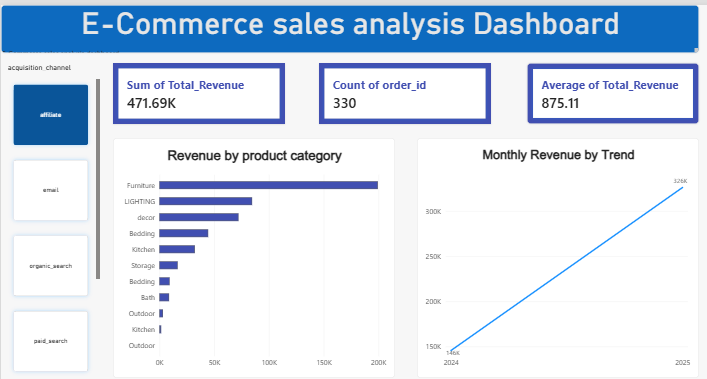

Layout of this report page (visuals, bound fields, positions):
{"tool":"powerbi","page":{"name":"Page 1","canvas":[1920,1080],"ordinal":0},"visuals":[{"type":"advancedSlicerVisual","fields":{"Values":["Sheet1.acquisition_channel"]},"box":[14,116,184,630],"z":0},{"type":"cardVisual","fields":{"Data":["Sum(Sheet1.Total_Revenue)"]},"box":[224,116,344,122],"z":1000},{"type":"clusteredBarChart","title":"Revenue by product category","fields":{"Category":["Sheet1.category"],"Y":["Sum(Sheet1.Total_Revenue)"]},"box":[224,266,564,480],"z":2000},{"type":"lineChart","title":"Monthly Revenue by Trend","fields":{"Category":["Sheet1.Order_Month_Year.Variation.Date Hierarchy.Year","Sheet1.Order_Month_Year.Variation.Date Hierarchy.Quarter","Sheet1.Order_Month_Year.Variation.Date Hierarchy.Month","Sheet1.Order_Month_Year.Variation.Date Hierarchy.Day"],"Y":["Sum(Sheet1.Total_Revenue)"]},"box":[832,266,564,480],"z":3000},{"type":"cardVisual","fields":{"Data":["Count(Sheet1.order_id)"]},"box":[636,116,344,122],"z":6000},{"type":"cardVisual","fields":{"Data":["Avg(Sheet1.Total_Revenue)"]},"box":[1052,116,344,122],"z":7000},{"type":"textbox","title":"E-Commerce sales analysis Dashboard","box":[0,0,1396,96],"z":7001}]}

Visuals, with their boxes on the page's 1920x1080 design canvas (x1, y1, x2, y2). These are canvas units, not pixel positions in the 707x379 screenshot, which may show the page scaled, cropped or inside an application window:
advancedSlicerVisual - Sheet1.acquisition_channel: detection(14, 116, 198, 746)
cardVisual - Sum(Sheet1.Total_Revenue): detection(224, 116, 568, 238)
"Revenue by product category" clusteredBarChart: detection(224, 266, 788, 746)
"Monthly Revenue by Trend" lineChart: detection(832, 266, 1396, 746)
cardVisual - Count(Sheet1.order_id): detection(636, 116, 980, 238)
cardVisual - Avg(Sheet1.Total_Revenue): detection(1052, 116, 1396, 238)
"E-Commerce sales analysis Dashboard" textbox: detection(0, 0, 1396, 96)
